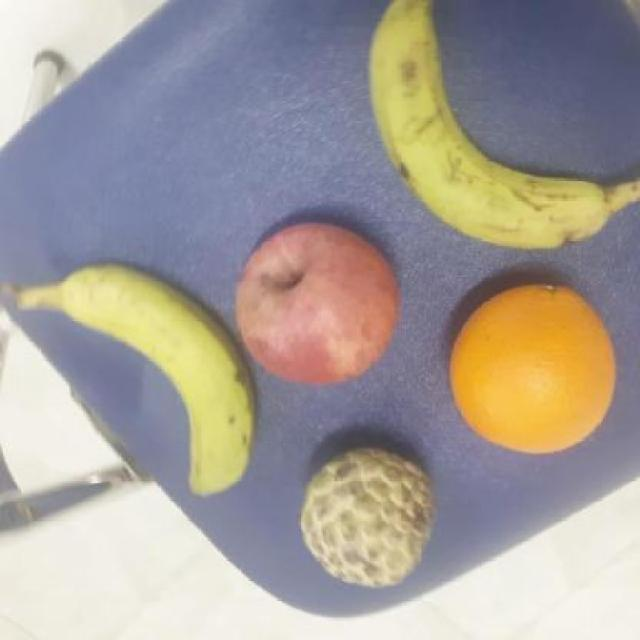apple: (229, 218, 405, 390)
banana: (364, 0, 618, 258), (52, 254, 257, 503)
oren: (446, 278, 625, 458)
sugar apple: (302, 448, 440, 592)
